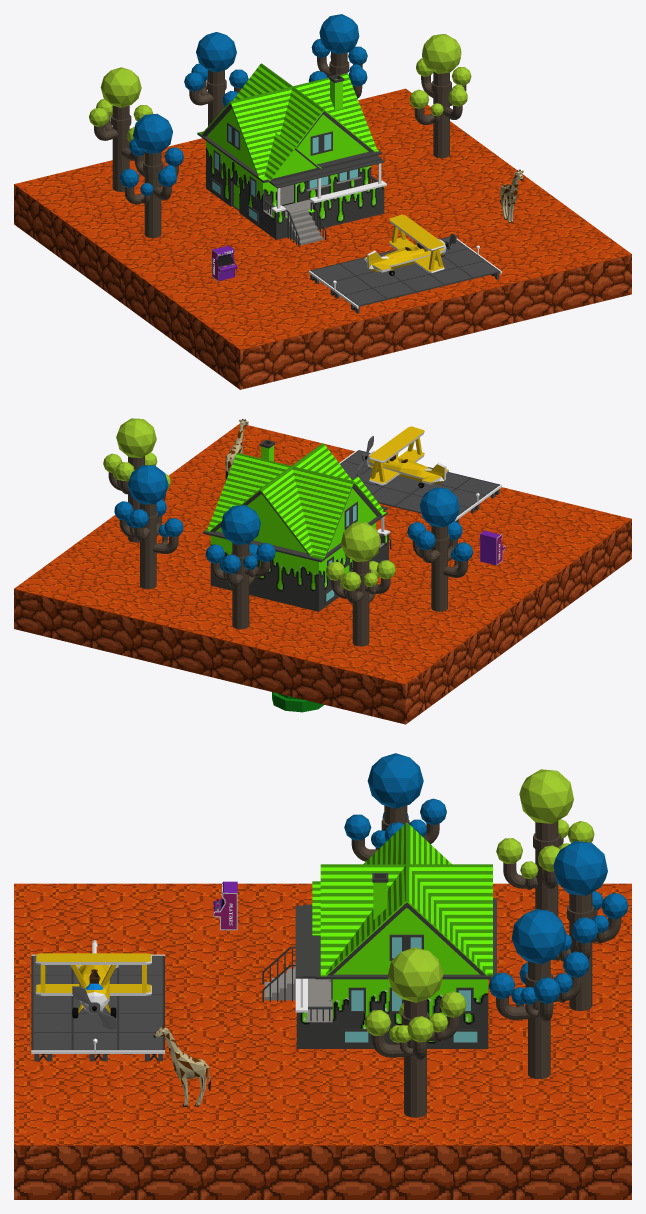
3 renders of one model, top to bottom at view 1: azimuth 30°, elevation 25°; view 2: azimuth 150°, elevation 25°; view 3: azimuth 270°, elevation 25°, orthographic. The views are drawn at different scales.
Parts seen in each view (by area): view 1: Cube.001, Cube.754, VEHICLES_AIRPLANE, OBJRANDOM_ARCADE, ANIMAL_JIRAFA; view 2: Cube.001, Cube.754, VEHICLES_AIRPLANE, OBJRANDOM_ARCADE, UNDERGROUND_PIPES, ANIMAL_JIRAFA; view 3: Cube.001, Cube.754, VEHICLES_AIRPLANE, ANIMAL_JIRAFA, OBJRANDOM_ARCADE.
Part boxes in pixels (box(x1,y1,x2,y2)): Cube.001: box(14, 14, 631, 389); Cube.754: box(197, 63, 386, 246); VEHICLES_AIRPLANE: box(364, 214, 456, 275); OBJRANDOM_ARCADE: box(211, 245, 237, 281); ANIMAL_JIRAFA: box(500, 169, 523, 222); Cube.001: box(14, 418, 631, 724); Cube.754: box(203, 439, 391, 611); VEHICLES_AIRPLANE: box(356, 426, 448, 488); OBJRANDOM_ARCADE: box(480, 530, 505, 565); UNDERGROUND_PIPES: box(272, 692, 324, 712); ANIMAL_JIRAFA: box(225, 419, 248, 478); Cube.001: box(14, 753, 631, 1199); Cube.754: box(262, 823, 496, 1048); VEHICLES_AIRPLANE: box(35, 940, 151, 1029); ANIMAL_JIRAFA: box(153, 1025, 210, 1106); OBJRANDOM_ARCADE: box(213, 881, 237, 930).
Size of the model in its own units: 4000 by 2247 by 4000.
44 materials, 5 textured.
